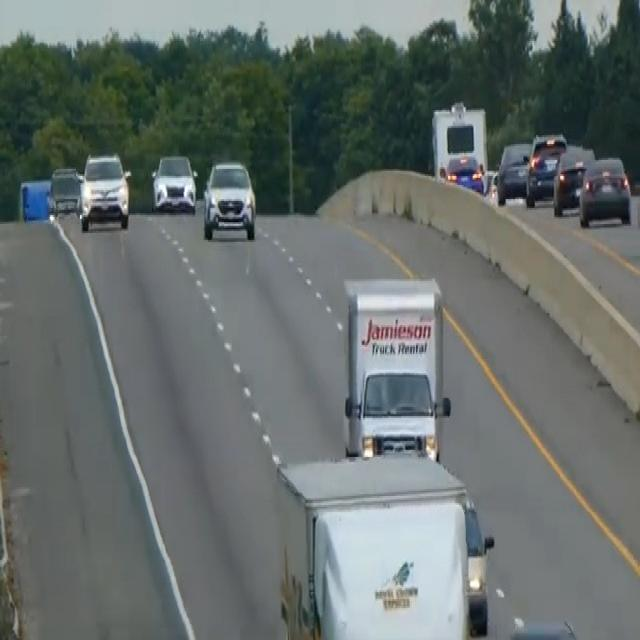bus: (430, 100, 489, 194)
car: (202, 156, 257, 242), (77, 149, 131, 231), (578, 153, 631, 227), (524, 130, 567, 206), (552, 142, 595, 215), (149, 151, 197, 213), (495, 138, 532, 202), (47, 164, 81, 215)
truck: (340, 274, 451, 460)
